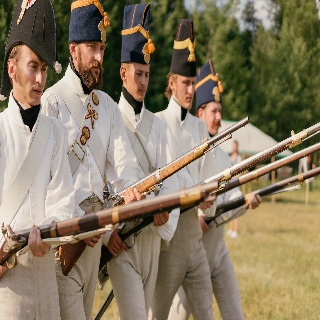rifle: (100, 119, 320, 277), (57, 114, 252, 277), (1, 181, 222, 280), (205, 161, 320, 229), (209, 140, 320, 205)
